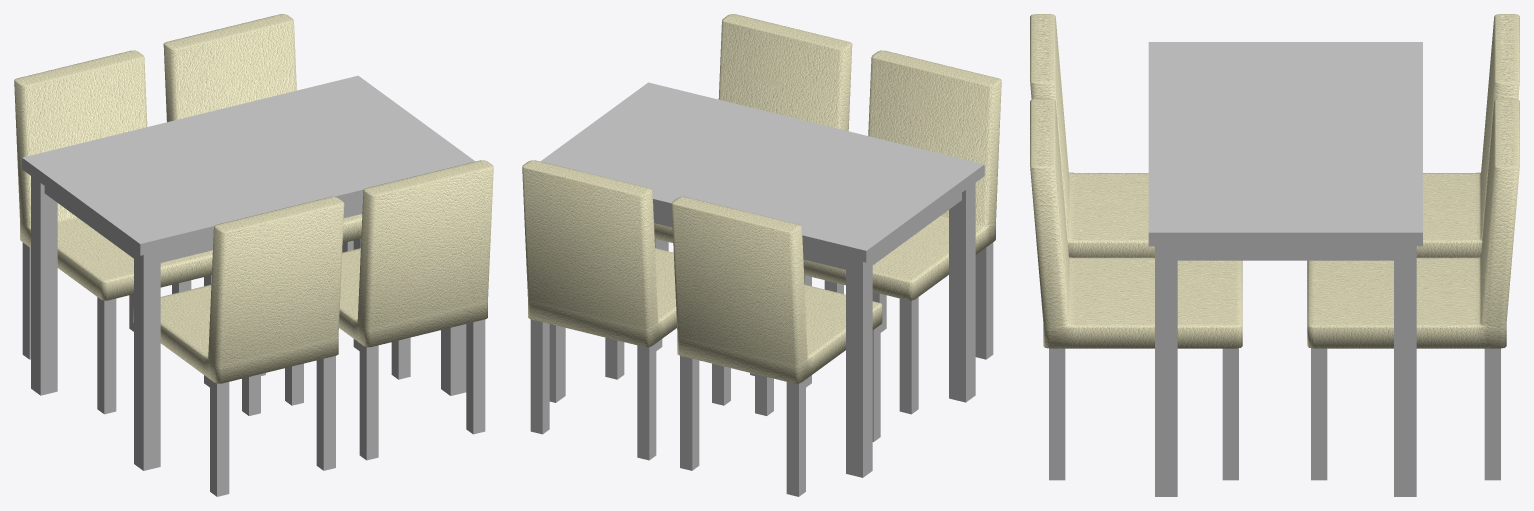
Rendered from Dining Table.fbx.
3 renders of one model, left to right at view 1: azimuth 30°, elevation 25°; view 2: azimuth 150°, elevation 25°; view 3: azimuth 270°, elevation 25°, orthographic. The views are drawn at different scales.
Parts seen in each view (by area): view 1: Table, ChairSeat1, ChairSeat2, ChairSeat4, ChairSeat3, ChairLegs2, ChairLegs1, ChairLegs4; view 2: Table, ChairSeat4, ChairSeat3, ChairSeat1, ChairSeat2, ChairLegs4, ChairLegs3, ChairLegs1; view 3: Table, ChairSeat2, ChairSeat3, ChairSeat1, ChairSeat4, ChairLegs2, ChairLegs3.
Part boxes in pixels (x1,y1,x2,y2): Table: (22,75,475,470); ChairSeat1: (133,196,344,383); ChairSeat2: (339,160,493,347); ChairSeat4: (14,50,212,300); ChairSeat3: (163,14,362,242); ChairLegs2: (285,319,485,460); ChairLegs1: (210,356,335,496); ChairLegs4: (22,242,211,414); Table: (540,82,984,477); ChairSeat4: (671,196,882,383); ChairSeat3: (522,160,676,347); ChairSeat1: (803,50,1001,300); ChairSeat2: (654,14,852,242); ChairLegs4: (680,325,880,496); ChairLegs3: (530,319,730,460); ChairLegs1: (804,242,993,414); Table: (1148,42,1422,496); ChairSeat2: (1030,98,1242,348); ChairSeat3: (1307,98,1519,348); ChairSeat1: (1030,14,1154,257); ChairSeat4: (1416,14,1519,257); ChairLegs2: (1049,348,1238,480); ChairLegs3: (1311,348,1500,480).
Size of the model in its own units: 120 by 92.36 by 130.
